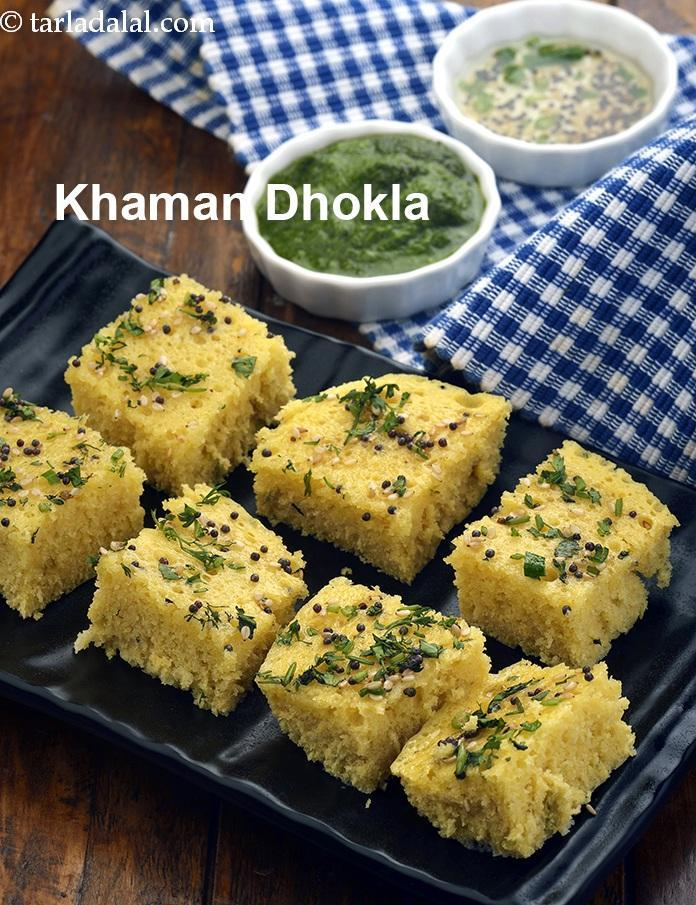dhokla: (38, 306, 680, 857)
